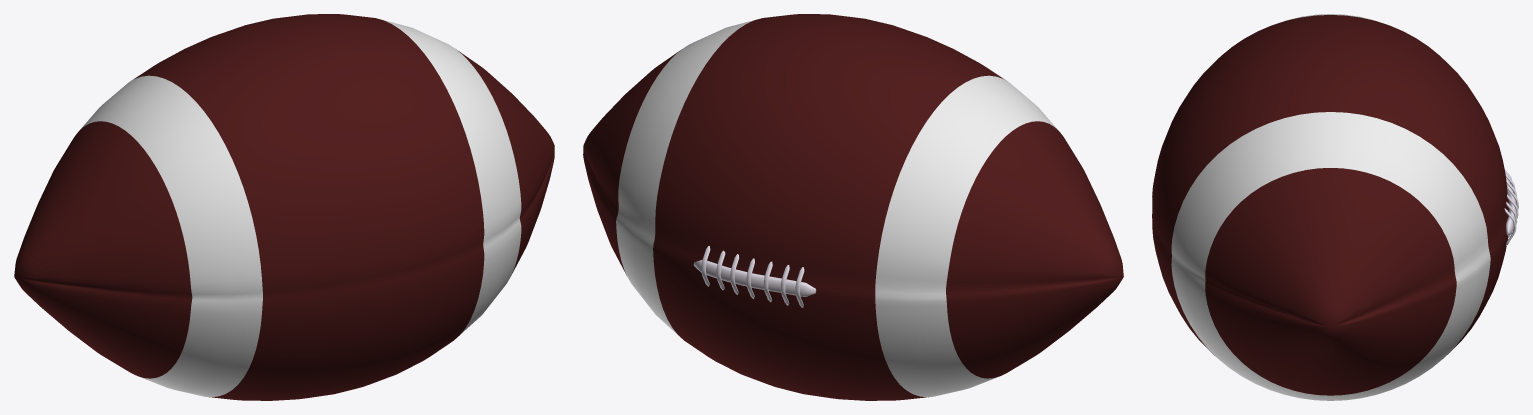
File: football.fbx
3 views of the same model, side by side, from view 1: azimuth 30°, elevation 25°; view 2: azimuth 150°, elevation 25°; view 3: azimuth 270°, elevation 25° (orthographic). The views are drawn at different scales.
Visible parts, largest first — view 1: football; view 2: football, seam; view 3: football.
Boxes of the visible parts, box(x1,y1,x2,y2) form: football: box(14, 14, 554, 400); football: box(583, 14, 1123, 400); seam: box(693, 260, 816, 296); football: box(1152, 14, 1508, 400).
Bounding box in the file's own units: 60.77 × 36.98 × 37.91.
